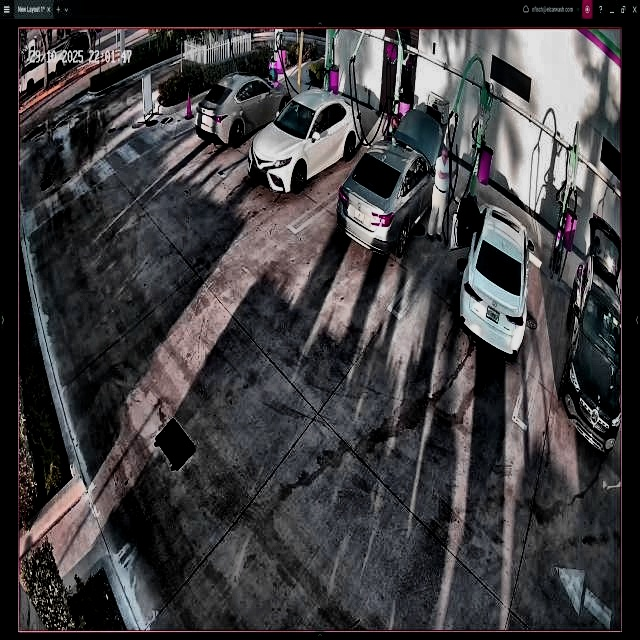Car: (338, 109, 438, 252), (457, 198, 534, 359), (249, 91, 361, 192), (197, 76, 291, 143)
